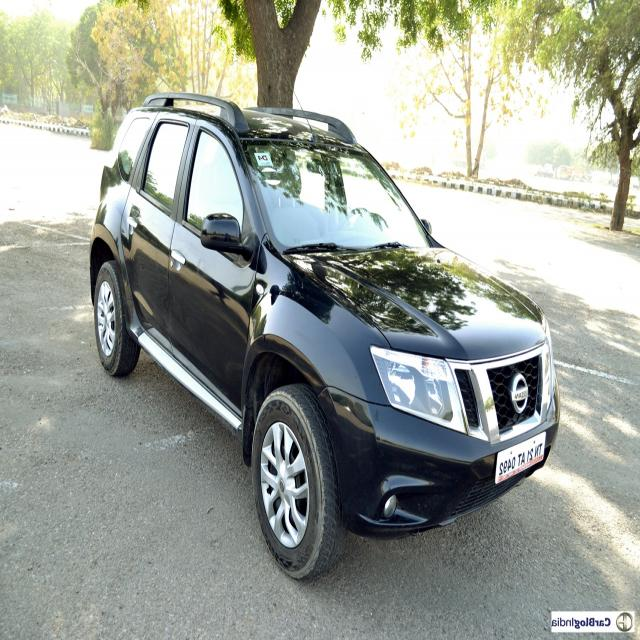license_plate: (487, 427, 548, 494)
